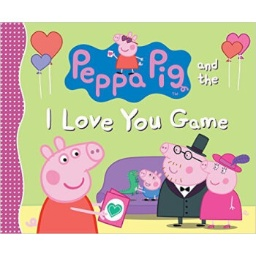Peppa: (26, 135, 107, 232)
